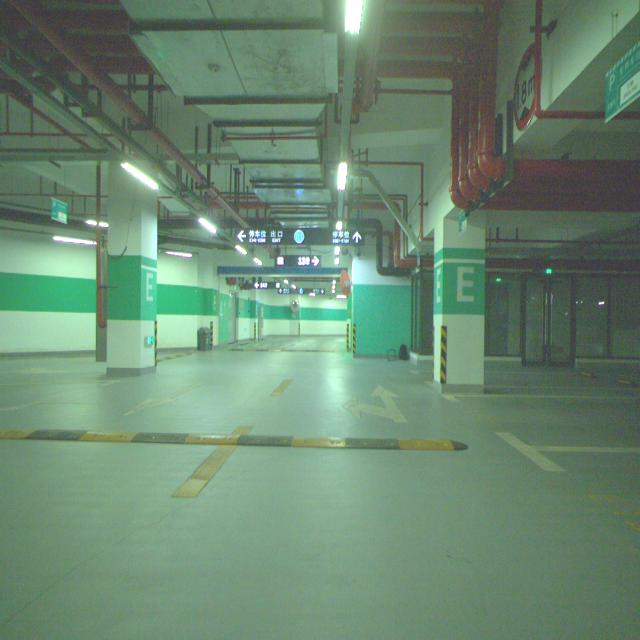pillar: (106, 162, 158, 377), (434, 212, 485, 389)
